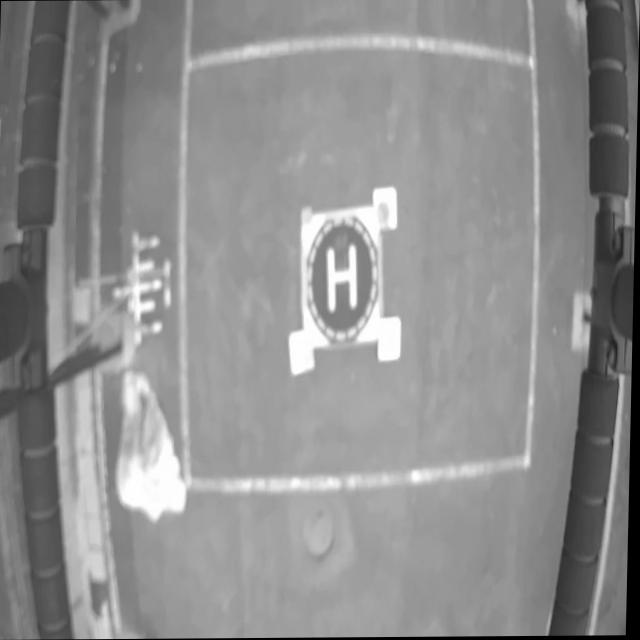Helipad: (327, 243, 358, 314)
